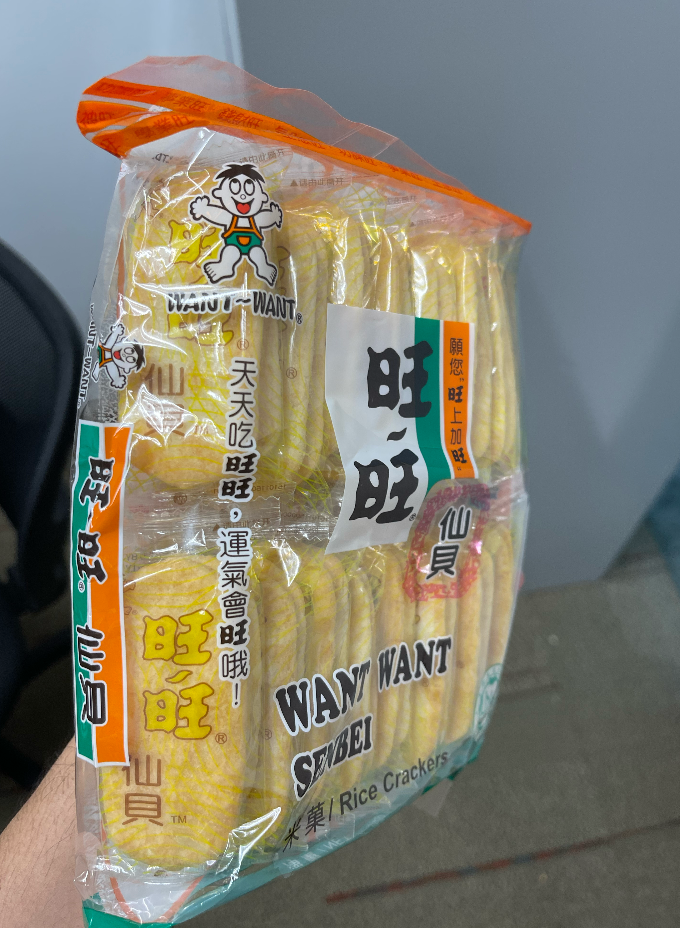crackers_1g-99g: (111, 175, 506, 857)
